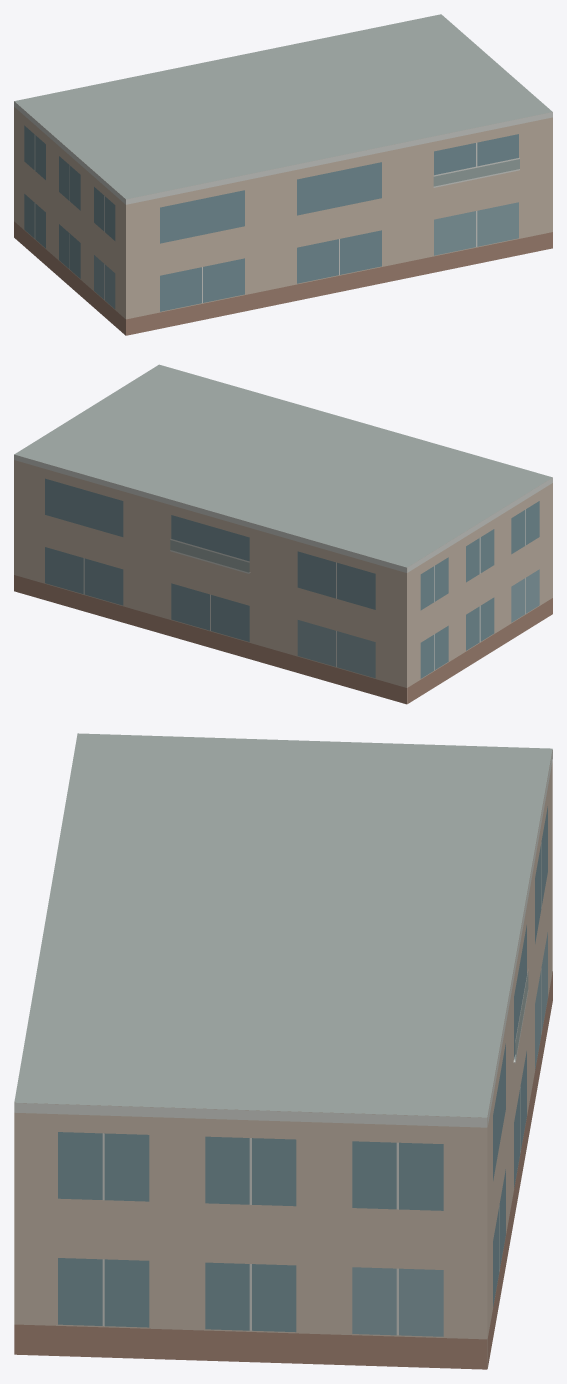
The model's file is survey-upis-33031573.glb.
3 renders of one model, top to bottom at view 1: azimuth 30°, elevation 25°; view 2: azimuth 150°, elevation 25°; view 3: azimuth 270°, elevation 25°, orthographic. The views are drawn at different scales.
Visible parts, largest first — view 1: survey-upis-33031573.tmp; view 2: survey-upis-33031573.tmp; view 3: survey-upis-33031573.tmp.
Part boxes in pixels (<box>): survey-upis-33031573.tmp: <box>14,14,552,335</box>; survey-upis-33031573.tmp: <box>14,364,552,704</box>; survey-upis-33031573.tmp: <box>14,733,552,1369</box>.
Size of the model in its own units: 19.97 by 6.1 by 11.83.
